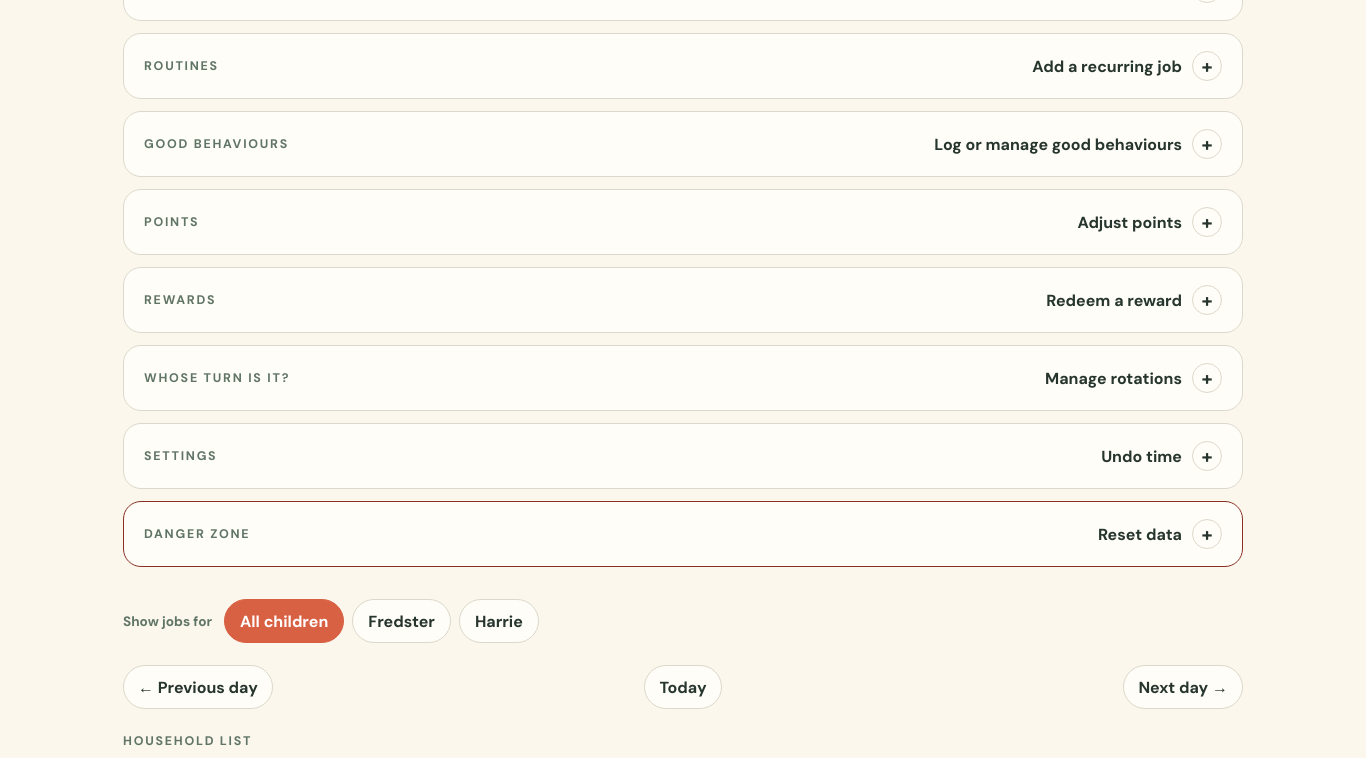
Whose Turn Is It? › shows an ended tick-based rotation as ending tomorrow
(page scrolled)
Click the text "Manage rotations". click: coordinates (1134, 378)
box: 1045,363 -> 1222,393
(page scrolled)
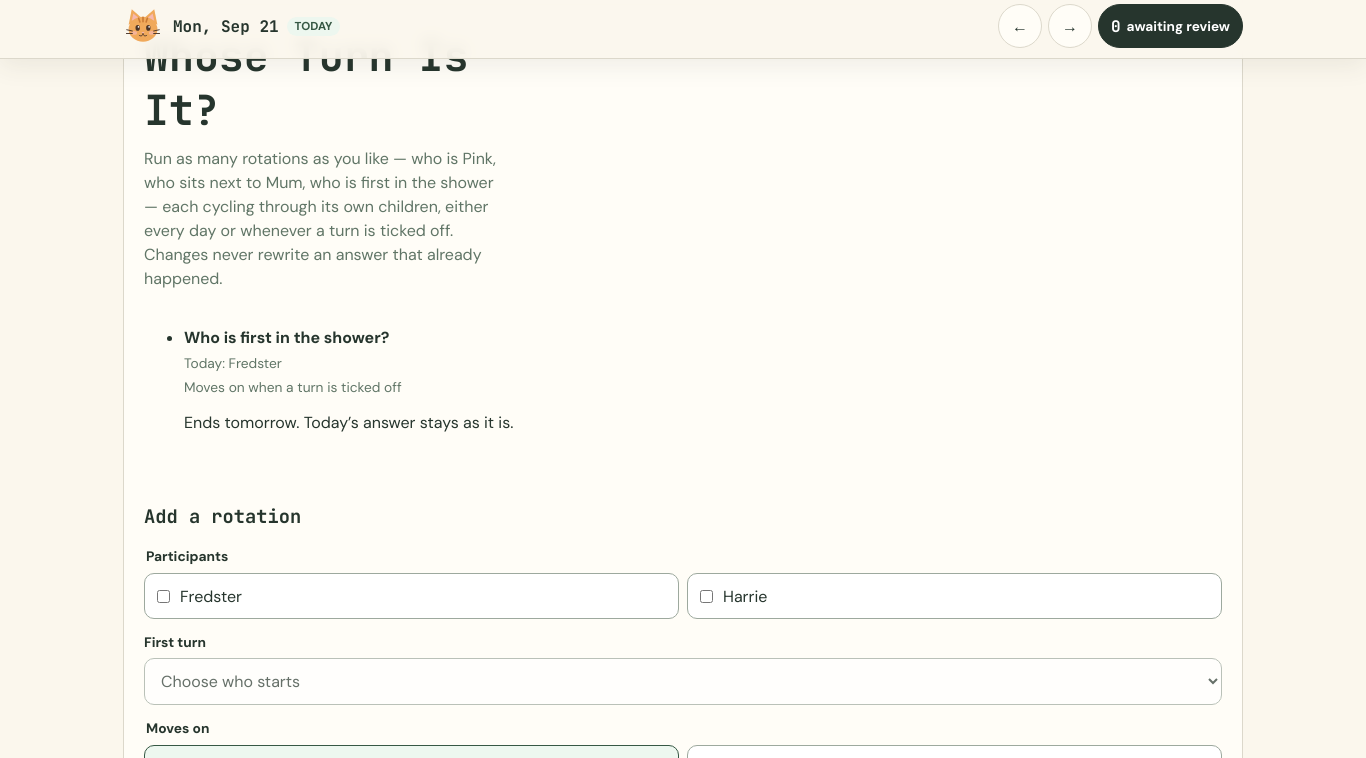
Expected: the text "Ends tomorrow. Today’s answer stays as it is." is shown, 184,412 -> 513,433
